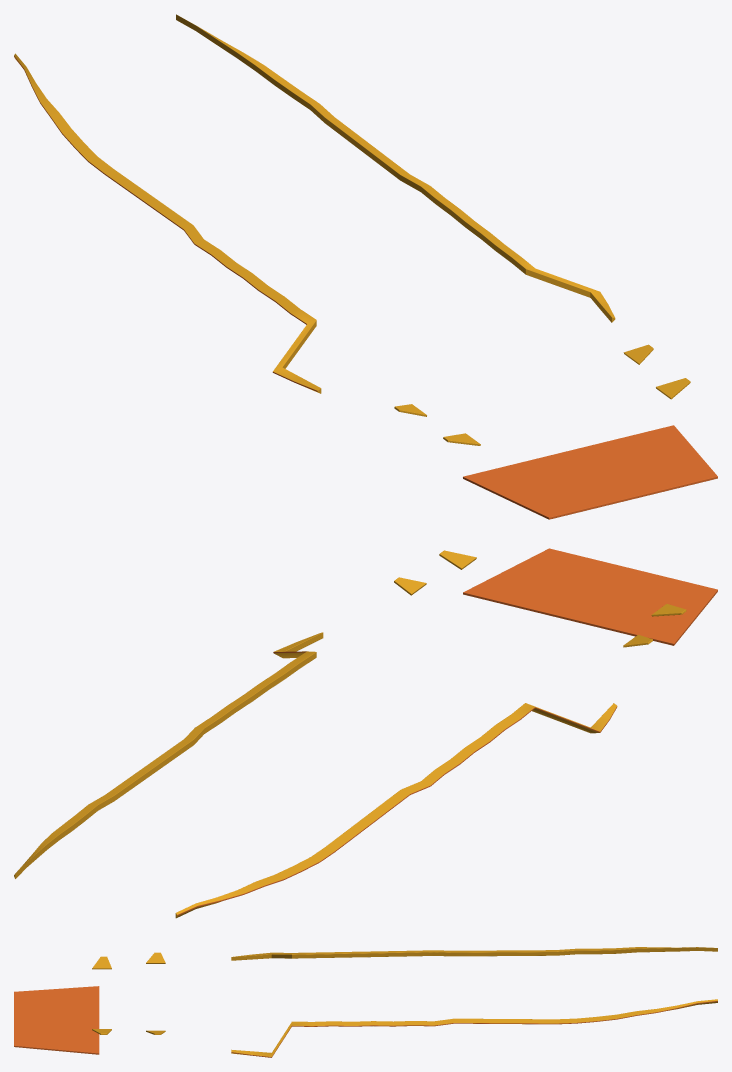
File: bastion_armor_ep.fbx
3 views of the same model, one above another, from view 1: azimuth 30°, elevation 25°; view 2: azimuth 150°, elevation 25°; view 3: azimuth 270°, elevation 25° (orthographic). The views are drawn at different scales.
Parts seen in each view (by area): view 1: Armor_Aero; view 2: Armor_Aero; view 3: Armor_Aero.
Part boxes in pixels (bbox=[...]): Armor_Aero: bbox=[14, 14, 717, 519]; Armor_Aero: bbox=[14, 548, 717, 918]; Armor_Aero: bbox=[14, 947, 717, 1057].
Size of the model in its own units: 218 by 46.38 by 620.
